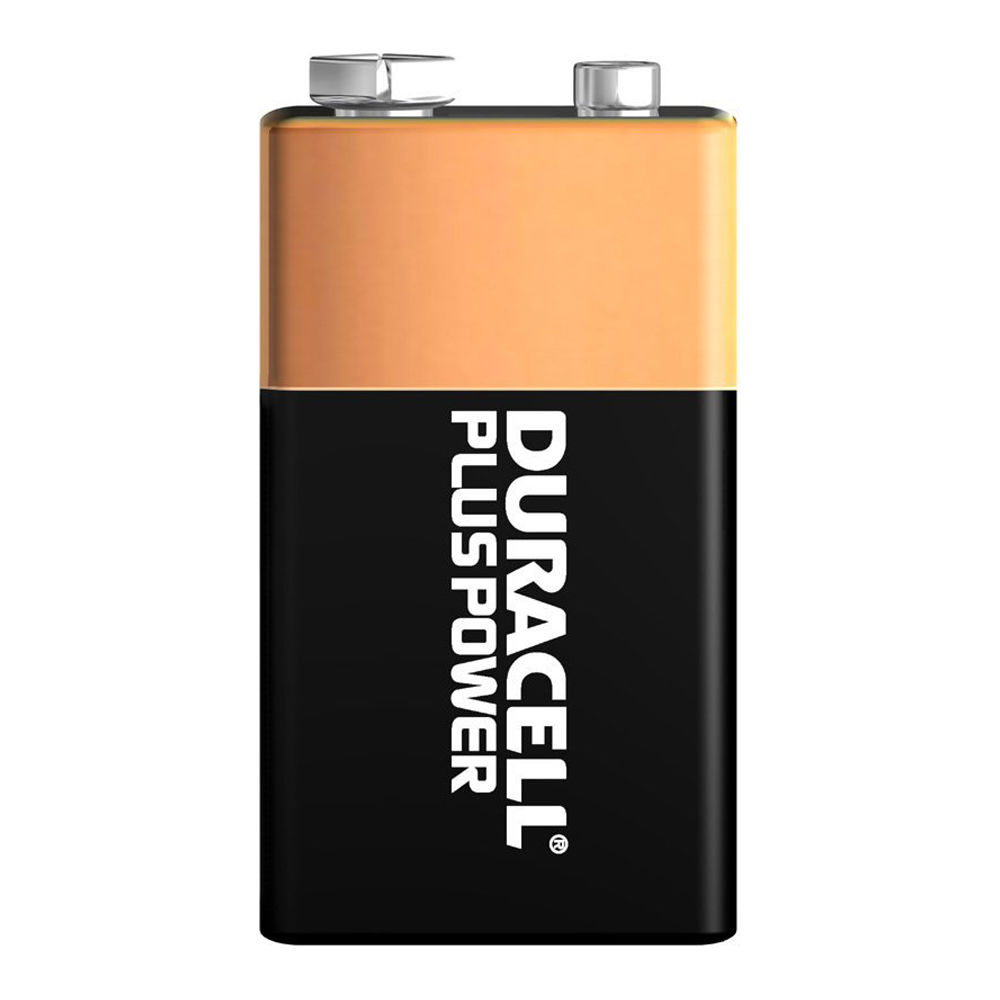9V: (231, 32, 793, 964)
